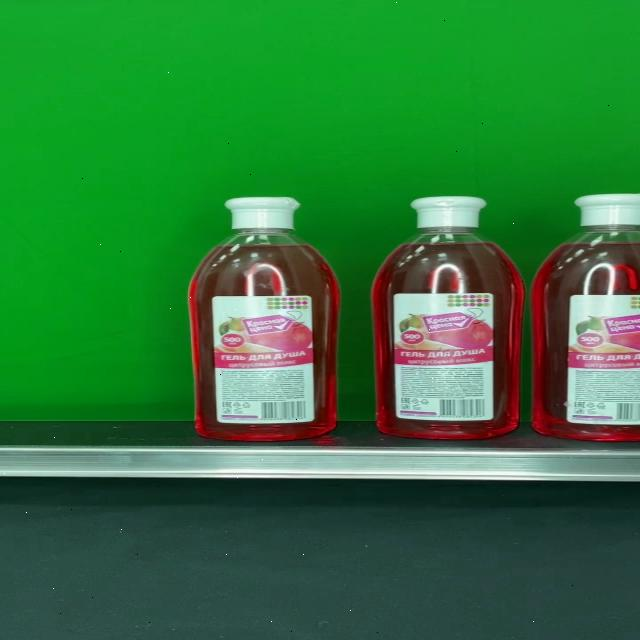Bottle: (372, 196, 525, 439), (188, 196, 339, 441)
Cap: (226, 196, 302, 230), (410, 196, 488, 228)
